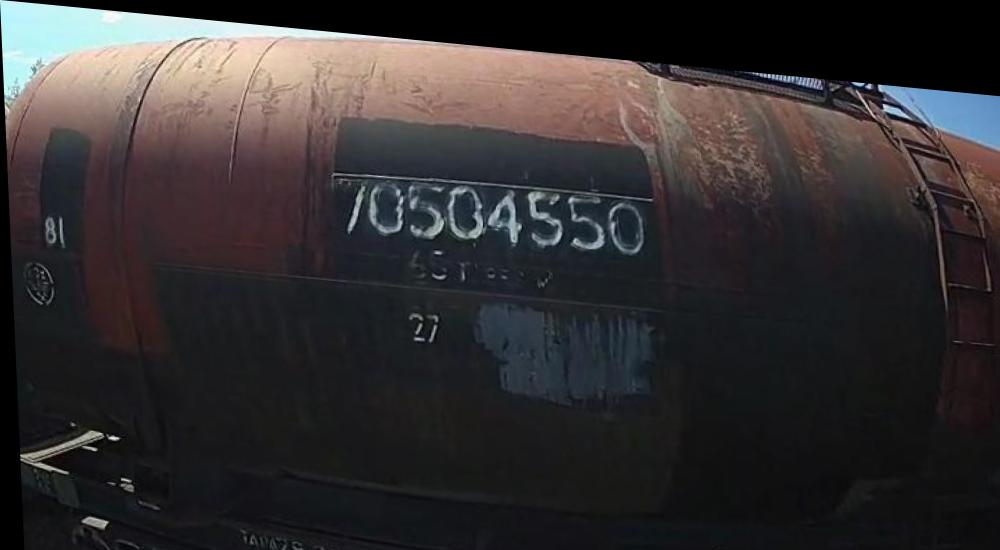Wagon-number: (331, 163, 649, 252)
